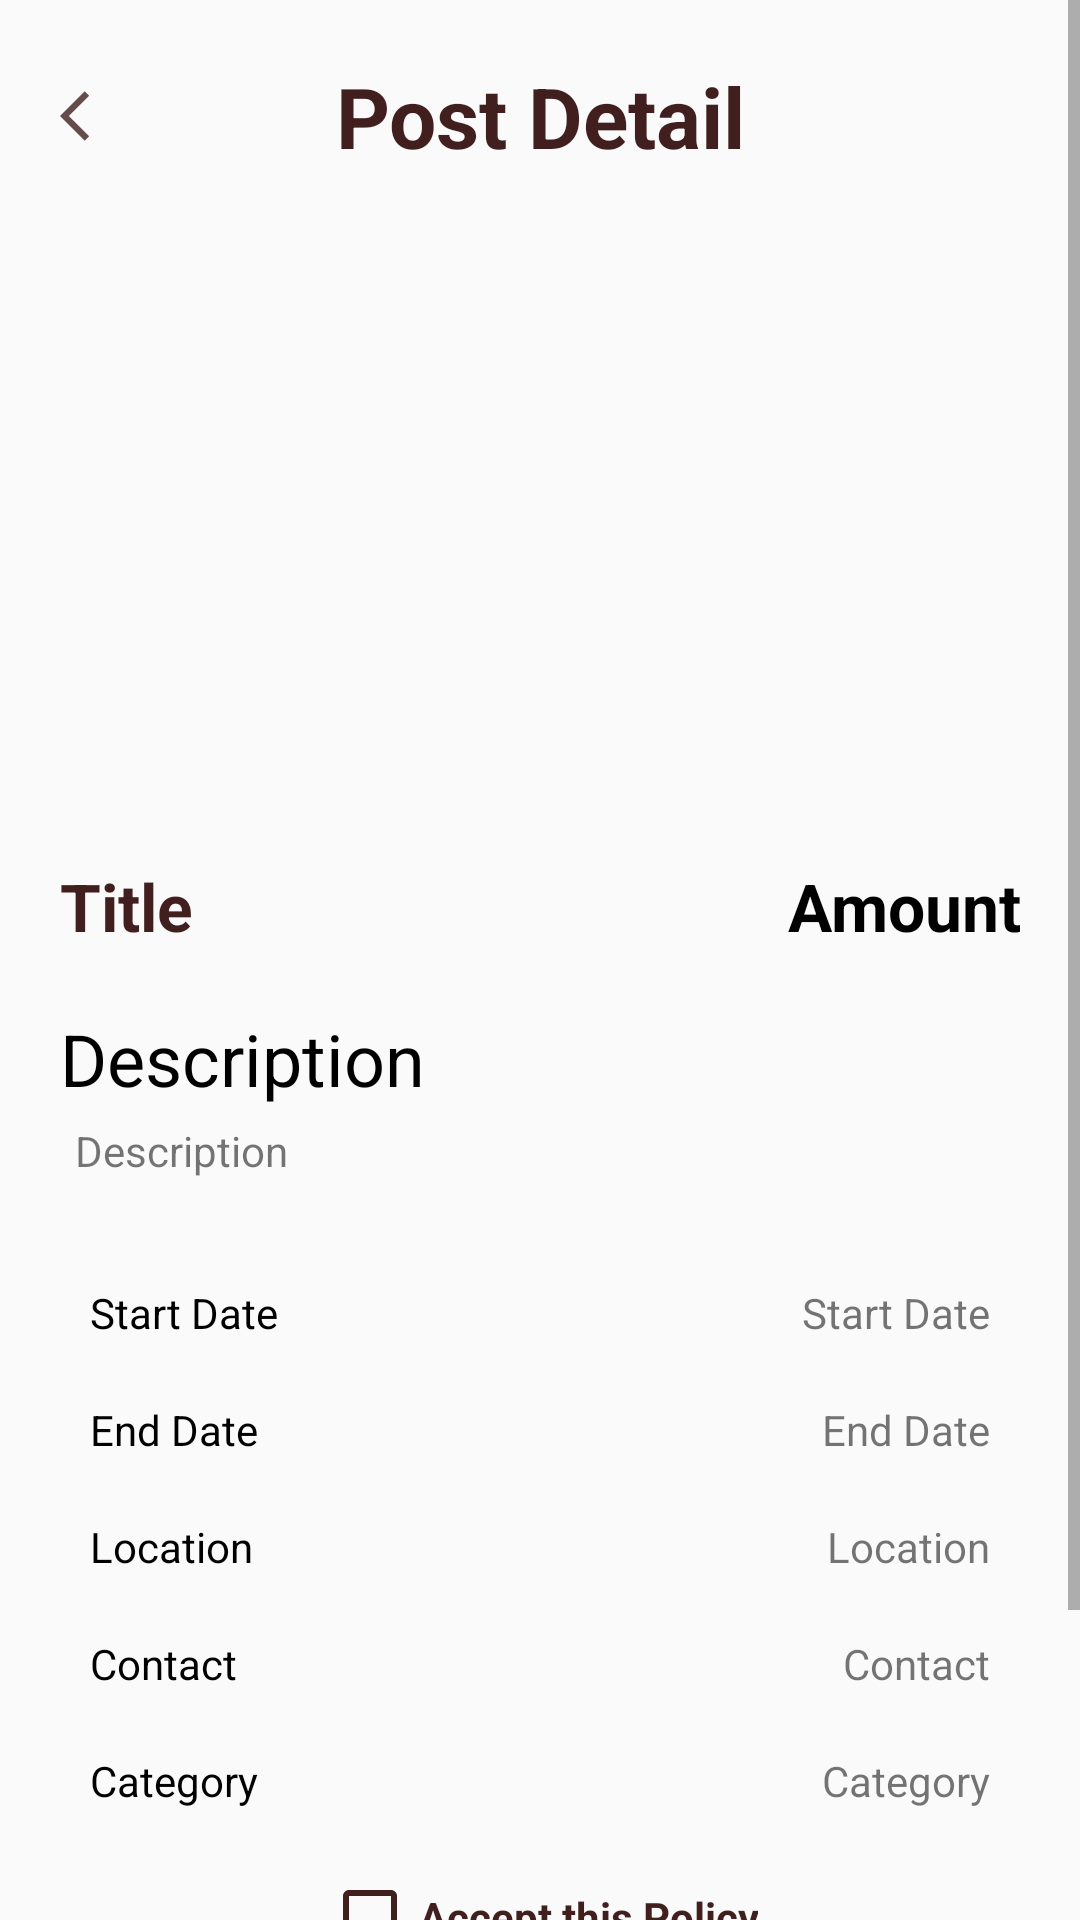

Icon bounding boxes for this 1080px×1920px phone screenshot, format (x1, y1, x2, y2):
back: (60, 91, 89, 141)
